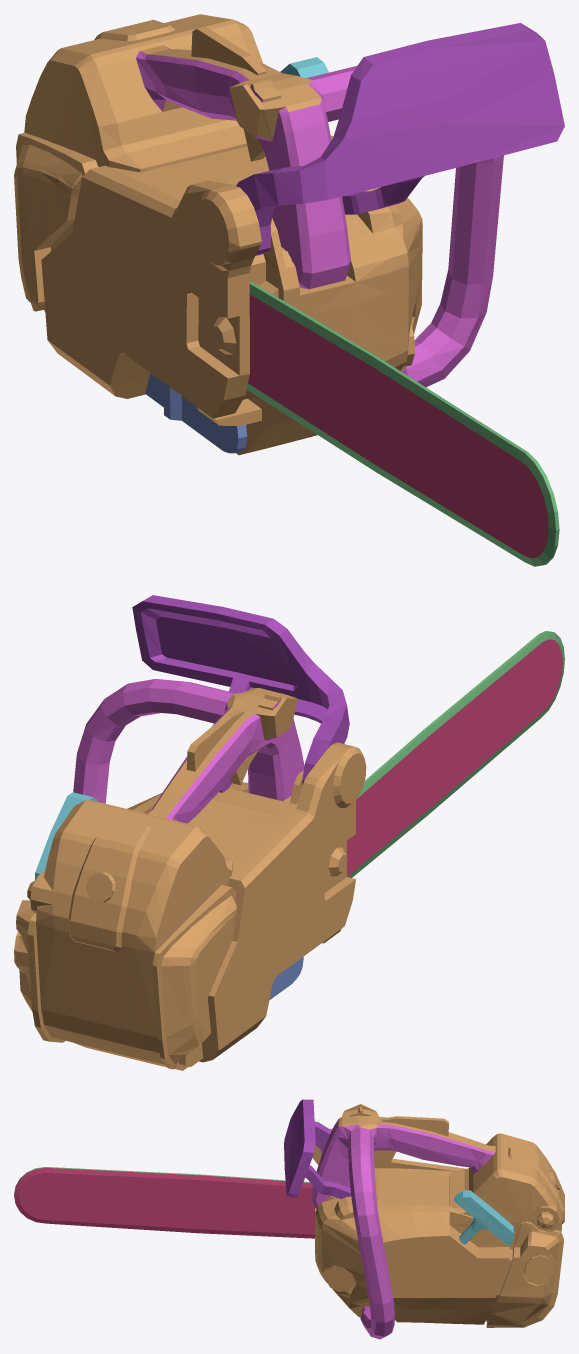
3 renders of one model, top to bottom at view 1: azimuth 30°, elevation 25°; view 2: azimuth 150°, elevation 25°; view 3: azimuth 270°, elevation 25°, orthographic. The views are drawn at different scales.
Parts seen in each view (by area): view 1: pred_mesh_gc.ply; view 2: pred_mesh_gc.ply; view 3: pred_mesh_gc.ply.
Boxes of the visible parts, bbox=[...] form: pred_mesh_gc.ply: bbox=[14, 14, 564, 566]; pred_mesh_gc.ply: bbox=[14, 595, 564, 1070]; pred_mesh_gc.ply: bbox=[14, 1099, 564, 1339].
Size of the model in its own units: 0.3067 by 0.371 by 0.8765.
